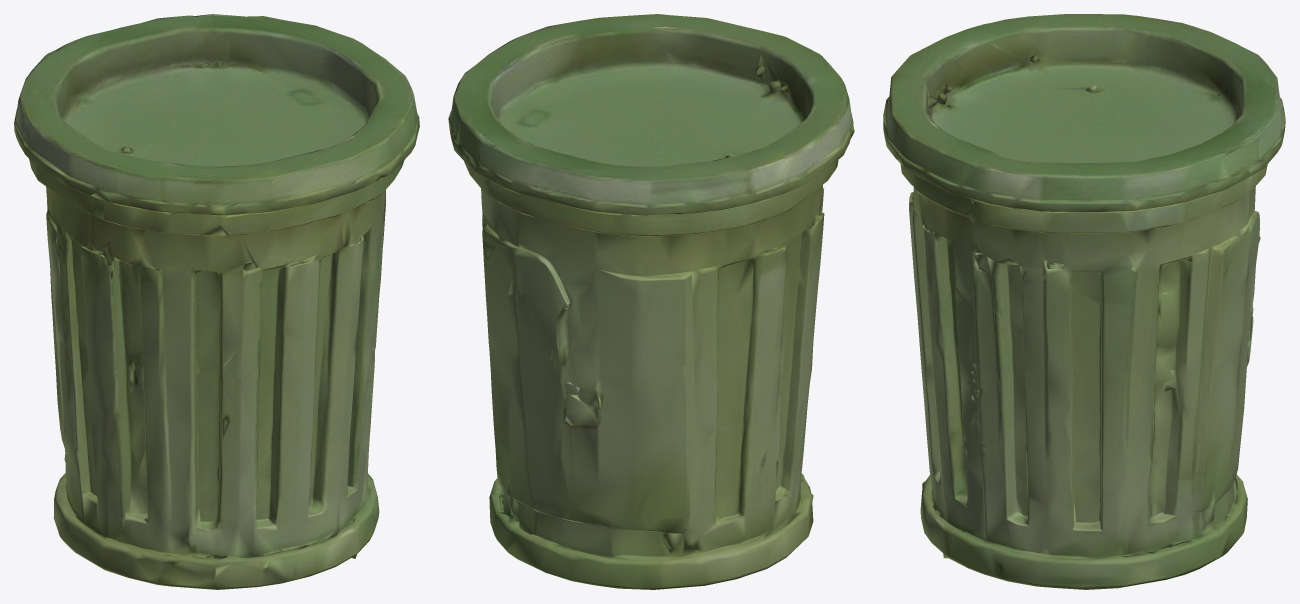
The model's file is bin.glb.
3 renders of one model, left to right at view 1: azimuth 30°, elevation 25°; view 2: azimuth 150°, elevation 25°; view 3: azimuth 270°, elevation 25°, orthographic.
Visible parts, largest first — view 1: tripo_node_92893cc2-daf3-4e21-9fb5-4447a8a79df2; view 2: tripo_node_92893cc2-daf3-4e21-9fb5-4447a8a79df2; view 3: tripo_node_92893cc2-daf3-4e21-9fb5-4447a8a79df2.
Part boxes in pixels (x1=…): tripo_node_92893cc2-daf3-4e21-9fb5-4447a8a79df2: x1=14, y1=14, x2=419, y2=589; tripo_node_92893cc2-daf3-4e21-9fb5-4447a8a79df2: x1=448, y1=14, x2=854, y2=589; tripo_node_92893cc2-daf3-4e21-9fb5-4447a8a79df2: x1=883, y1=14, x2=1285, y2=589.
Size of the model in its own units: 0.8101 by 1 by 0.8145.
Materials: 1 (1 with a texture image).
